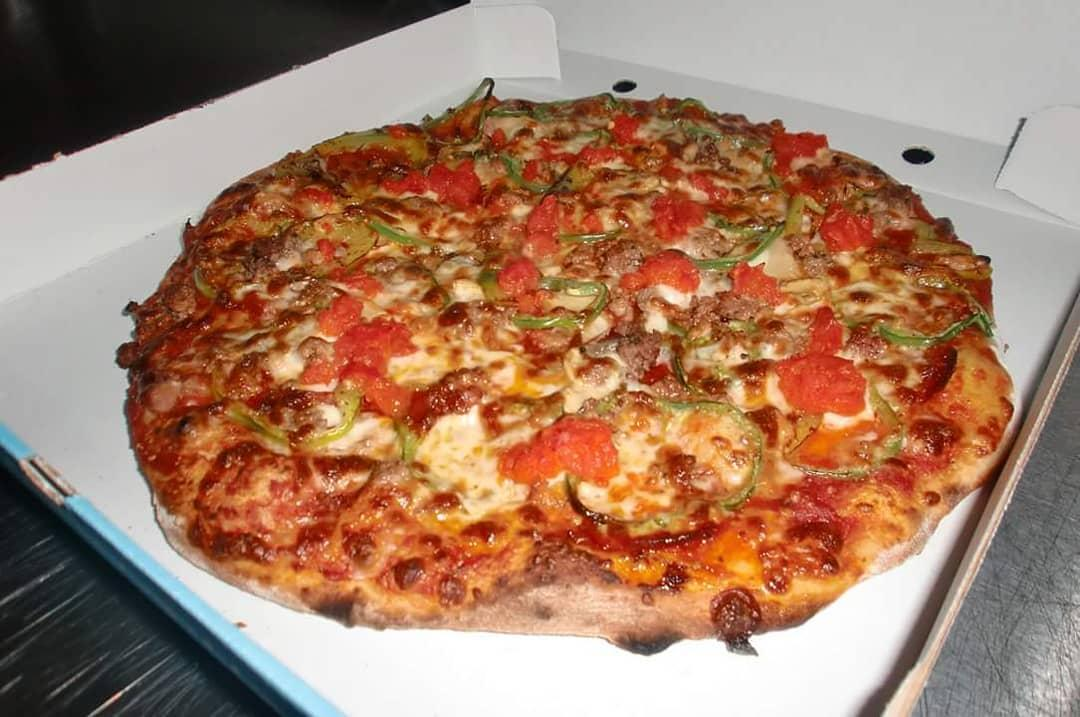Peppers: (228, 410, 350, 451), (720, 428, 764, 518), (574, 496, 687, 530), (705, 222, 785, 270), (660, 394, 758, 428), (880, 313, 990, 343), (503, 154, 557, 192), (794, 462, 882, 481), (360, 222, 423, 247), (543, 273, 608, 297), (516, 309, 575, 333)
Pizza: (122, 99, 1012, 639)
Tomatoes: (323, 297, 415, 420), (500, 414, 619, 485), (783, 348, 869, 420), (523, 194, 599, 244), (383, 168, 479, 205), (623, 252, 704, 291), (774, 127, 827, 174), (652, 192, 705, 238), (823, 202, 872, 249), (729, 260, 772, 296), (808, 305, 842, 348), (607, 112, 648, 146)
